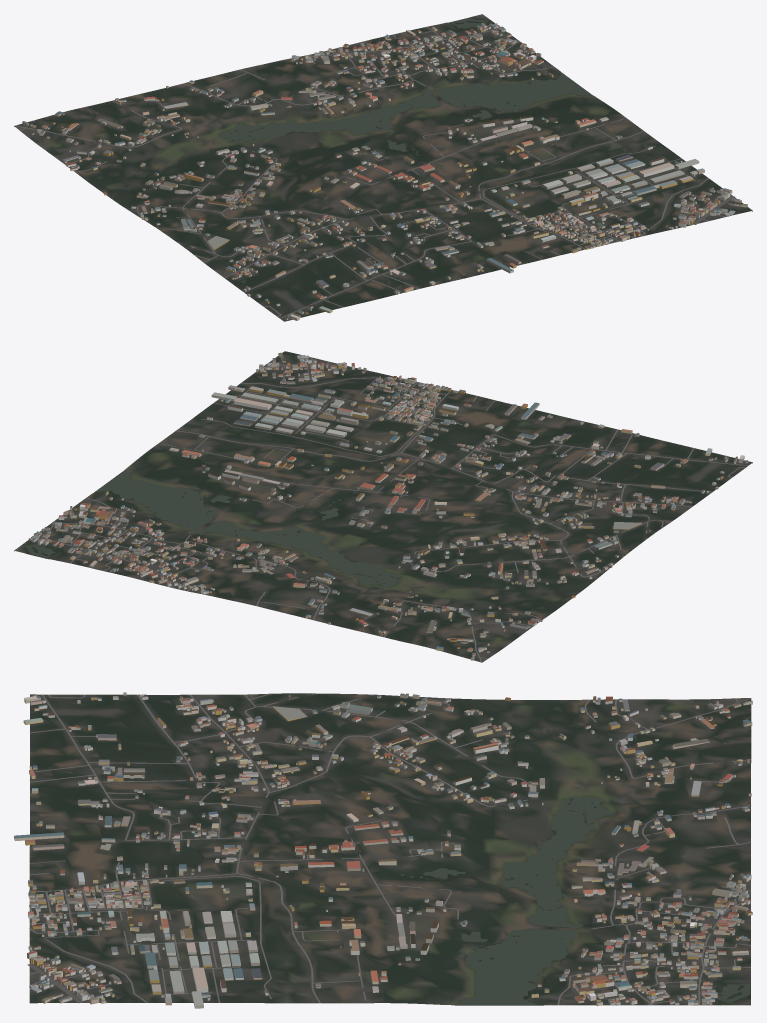
The picture shows the model from 3 angles, top to bottom: view 1: azimuth 30°, elevation 25°; view 2: azimuth 150°, elevation 25°; view 3: azimuth 270°, elevation 25°; orthographic projection. The views are drawn at different scales.
Parts seen in each view (by area): view 1: ground, buildings, water, roads; view 2: ground, buildings, water, roads; view 3: ground, buildings, water, roads.
Part boxes in pixels (x1,y1,x2,y2): ground: [14, 14, 752, 321]; buildings: [22, 23, 747, 320]; water: [134, 18, 592, 174]; roads: [15, 26, 734, 318]; ground: [14, 351, 752, 662]; buildings: [28, 352, 748, 660]; water: [26, 470, 516, 597]; roads: [39, 357, 748, 662]; ground: [29, 693, 751, 1005]; buildings: [14, 692, 752, 1008]; water: [400, 728, 750, 1005]; roads: [27, 693, 751, 1005].
Bounding box in the file's own units: 1430 × 26.7 × 1436.
